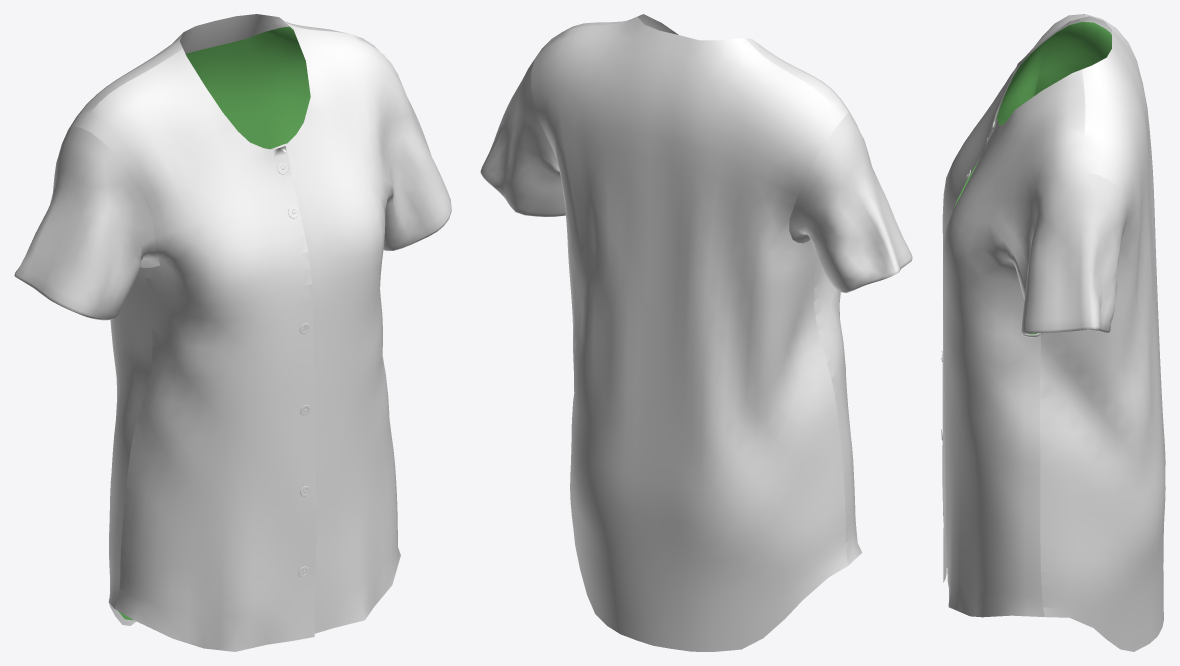
Rendered from 745VTG.glb.
The picture shows the model from 3 angles, left to right: view 1: azimuth 30°, elevation 25°; view 2: azimuth 150°, elevation 25°; view 3: azimuth 270°, elevation 25°; orthographic projection. The views are drawn at different scales.
Parts seen in each view (by area): view 1: 745VTG; view 2: 745VTG; view 3: 745VTG.
Part boxes in pixels (box(x1,y1,x2,y2)): 745VTG: box(14, 14, 451, 651); 745VTG: box(480, 14, 912, 651); 745VTG: box(941, 14, 1165, 651).
Bounding box in the file's own units: 0.7268 × 0.9839 × 0.3438.
